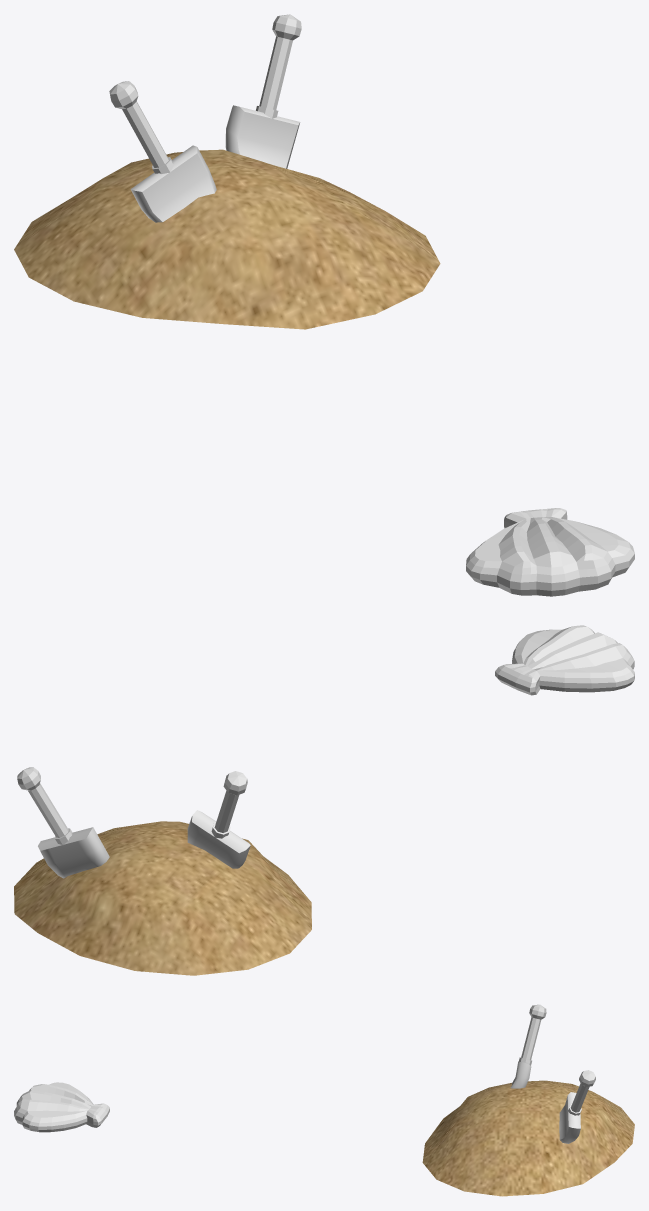
3 views of the same model, one above another, from view 1: azimuth 30°, elevation 25°; view 2: azimuth 150°, elevation 25°; view 3: azimuth 270°, elevation 25° (orthographic). The views are drawn at different scales.
Parts seen in each view (by area): view 1: Sphere001, Joge, Sphere004, Sphere002; view 2: Sphere001, Joge, Sphere002, Sphere004; view 3: Sphere001, Joge, Sphere002, Sphere004.
Boxes of the visible parts, box(x1,y1,x2,y2) form: Sphere001: box(14, 149, 440, 329); Joge: box(466, 508, 634, 596); Sphere004: box(109, 81, 216, 222); Sphere002: box(225, 14, 301, 168); Sphere001: box(14, 821, 311, 975); Joge: box(495, 625, 634, 695); Sphere002: box(17, 767, 109, 878); Sphere004: box(187, 771, 250, 868); Sphere001: box(422, 1080, 634, 1196); Joge: box(14, 1082, 109, 1132); Sphere002: box(559, 1070, 595, 1143); Sphere004: box(510, 1004, 546, 1088).
Bounding box in the file's own units: 180 × 96.21 × 474.
